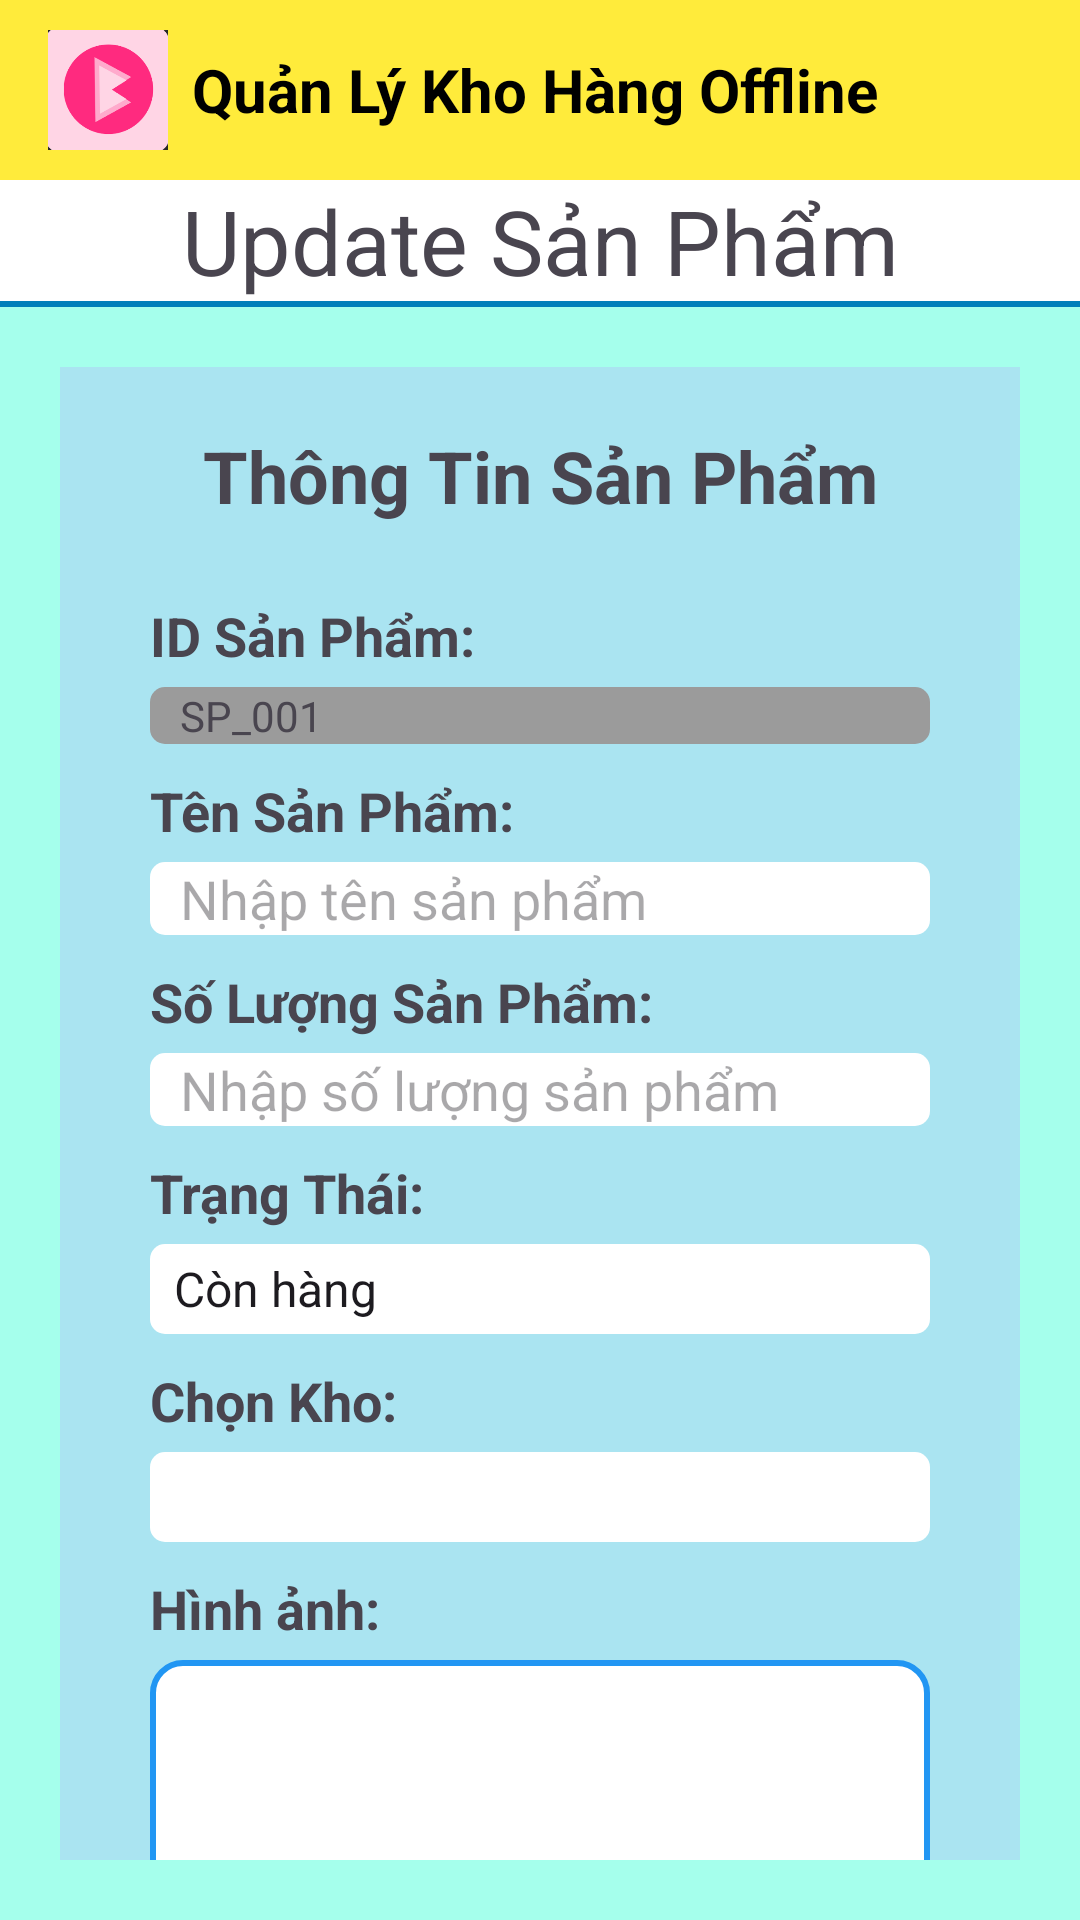

Point at icon controls on the screen. Image size 1080 x 1920, points as (x,y).
iconapp: (108,90)
